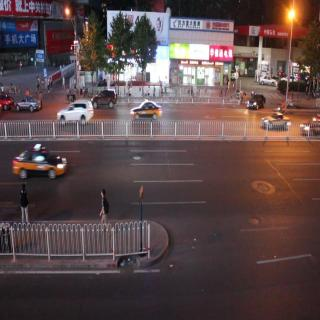Car: (10, 145, 71, 182), (57, 100, 95, 126), (91, 85, 119, 114), (131, 98, 164, 122), (300, 109, 320, 143), (262, 111, 289, 134), (16, 94, 44, 112), (0, 88, 15, 118), (246, 92, 268, 110)
